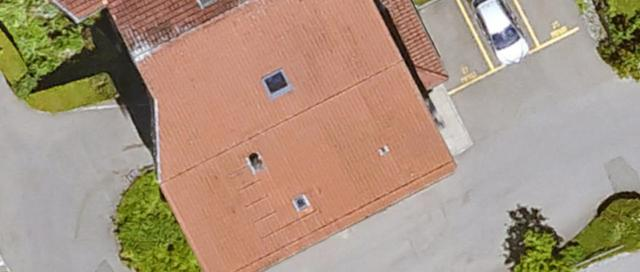tree: (600, 14, 640, 78), (516, 225, 557, 272)
